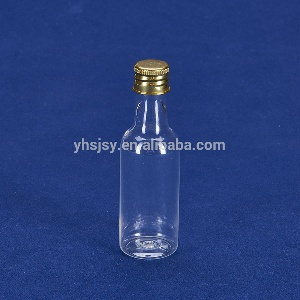emptybottle: (119, 59, 180, 261)
